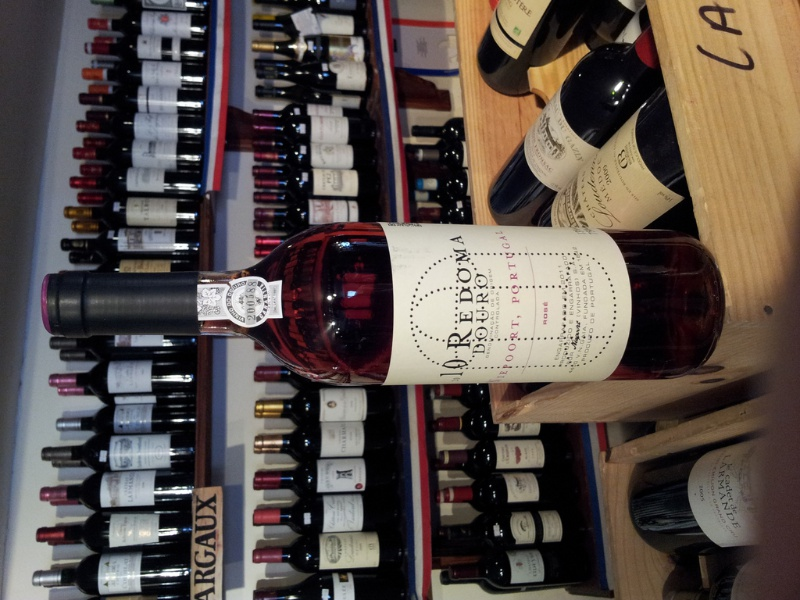wine: (36, 4, 769, 600), (39, 214, 731, 384)
